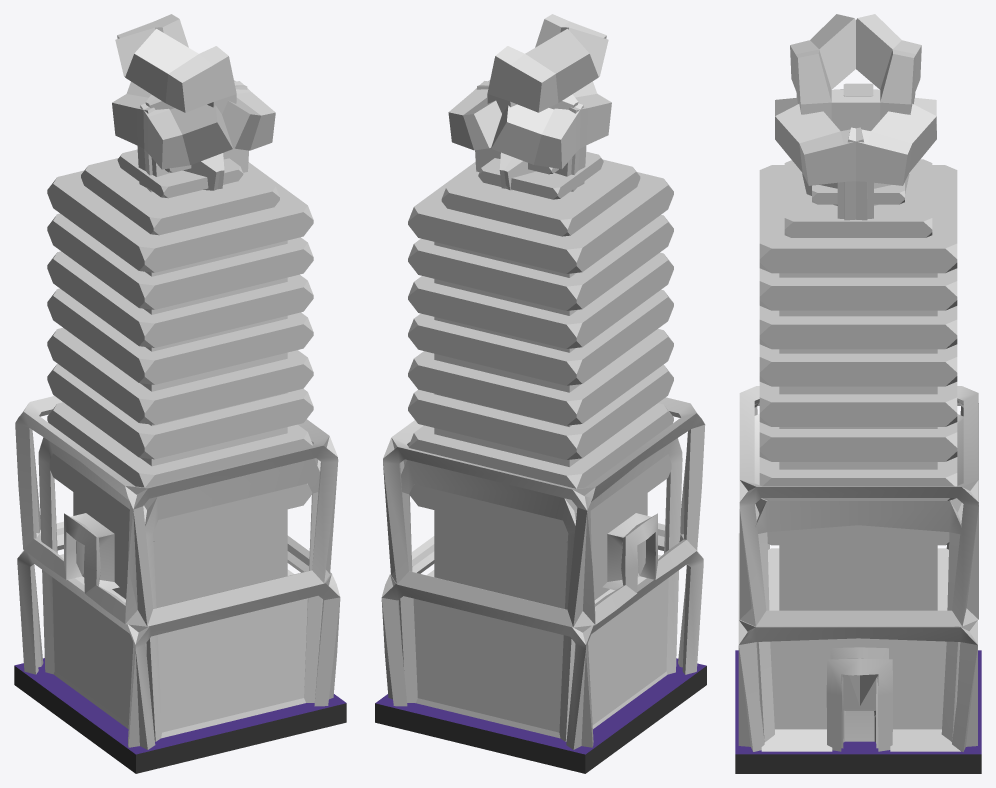
File: building_1.fbx
3 views of the same model, side by side, from view 1: azimuth 30°, elevation 25°; view 2: azimuth 150°, elevation 25°; view 3: azimuth 270°, elevation 25° (orthographic).
Parts seen in each view (by area): view 1: Base.004, Base.002, Base.003, Cube.074, Cube.077, Building Segment, Base.001, Cube.066, Cube.070, Cube.072, Cube.068, Cube.064 (+10 smaller); view 2: Base.004, Base.002, Base.003, Cube.074, Cube.077, Building Segment, Base.001, Cube.066, Cube.070, Cube.072, Cube.068, Cube.064 (+10 smaller); view 3: Base.002, Base.001, Base.003, Base.004, Generated Shape.002, Cube.074, Cube.077, Cube.070, Building Segment, Cube.072, Cube.068, Cube.066 (+14 smaller).
Boxes of the visible parts, left/top/right/bottom form: Base.004: left=52, top=554, right=307, bottom=732; Base.002: left=15, top=396, right=338, bottom=626; Base.003: left=38, top=437, right=322, bottom=741; Cube.074: left=47, top=162, right=313, bottom=272; Cube.077: left=73, top=492, right=287, bottom=607; Building Segment: left=14, top=658, right=346, bottom=773; Base.001: left=17, top=534, right=340, bottom=749; Cube.066: left=47, top=328, right=313, bottom=424; Cube.070: left=47, top=251, right=313, bottom=347; Cube.072: left=47, top=213, right=313, bottom=309; Cube.068: left=47, top=288, right=313, bottom=384; Cube.064: left=47, top=363, right=313, bottom=459; Base.004: left=413, top=555, right=668, bottom=732; Base.002: left=383, top=397, right=705, bottom=627; Base.003: left=399, top=438, right=682, bottom=741; Cube.074: left=408, top=162, right=673, bottom=273; Cube.077: left=434, top=493, right=647, bottom=608; Building Segment: left=375, top=658, right=706, bottom=773; Base.001: left=381, top=535, right=703, bottom=749; Cube.066: left=408, top=329, right=673, bottom=425; Cube.070: left=408, top=252, right=673, bottom=348; Cube.072: left=408, top=215, right=673, bottom=310; Cube.068: left=408, top=289, right=673, bottom=385; Cube.064: left=408, top=364, right=673, bottom=459; Base.002: left=739, top=386, right=978, bottom=626; Base.001: left=738, top=533, right=977, bottom=751; Base.003: left=751, top=414, right=963, bottom=748; Base.004: left=768, top=548, right=948, bottom=729; Generated Shape.002: left=790, top=14, right=921, bottom=130; Cube.074: left=759, top=165, right=957, bottom=273; Cube.077: left=779, top=545, right=937, bottom=610; Cube.070: left=759, top=306, right=957, bottom=349; Building Segment: left=735, top=650, right=981, bottom=773; Cube.072: left=759, top=268, right=957, bottom=310; Cube.068: left=759, top=344, right=957, bottom=386; Cube.066: left=759, top=382, right=957, bottom=426.
Size of the model in its own units: 806 by 2481 by 800.
